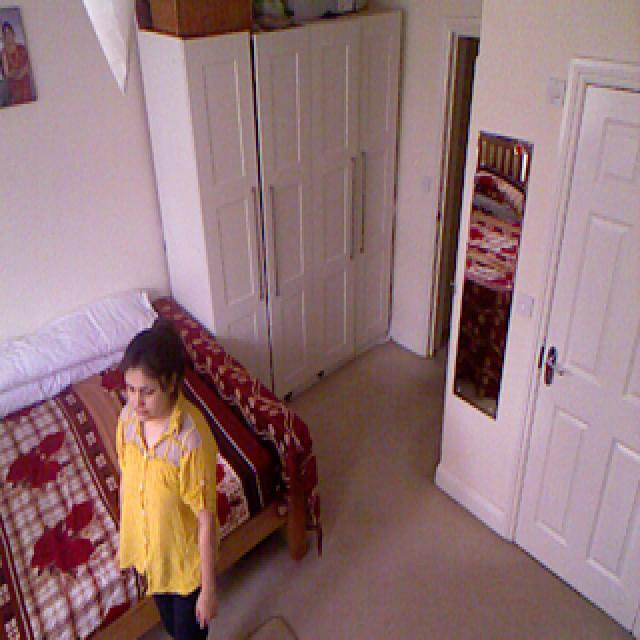standing: (106, 302, 225, 640)
